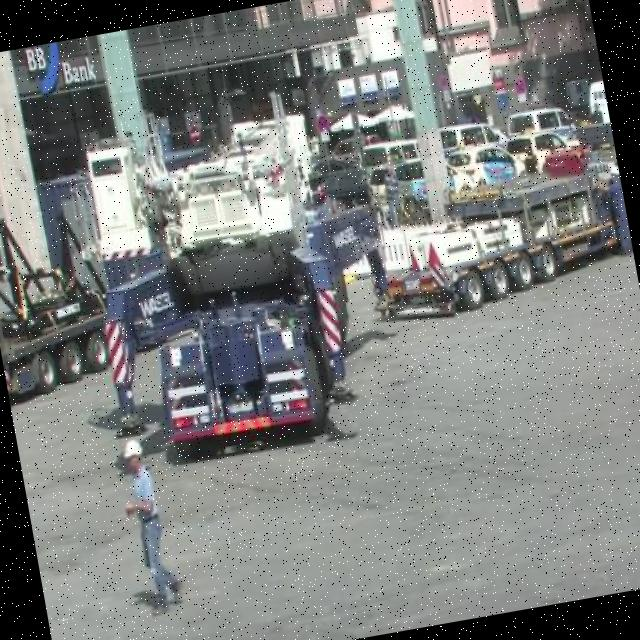Mobile Crane: (65, 98, 415, 475)
